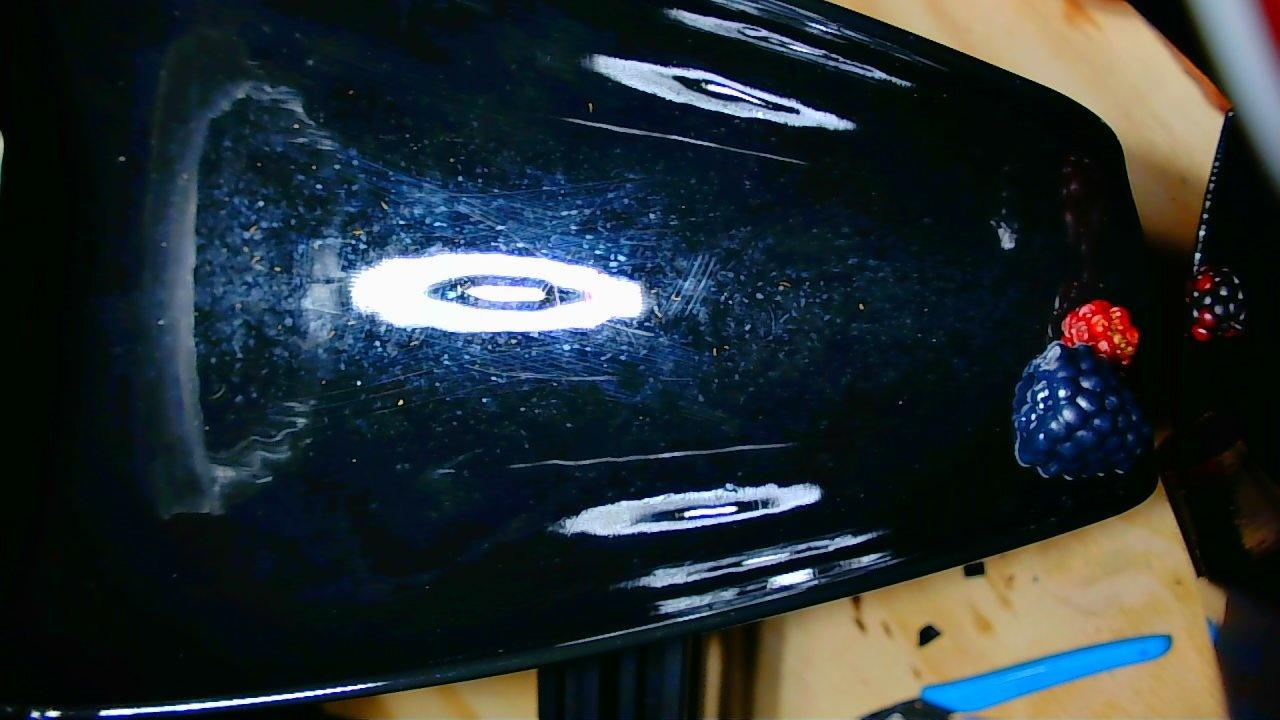berry: (1015, 342, 1150, 479), (1062, 299, 1139, 365), (1189, 266, 1247, 341)
